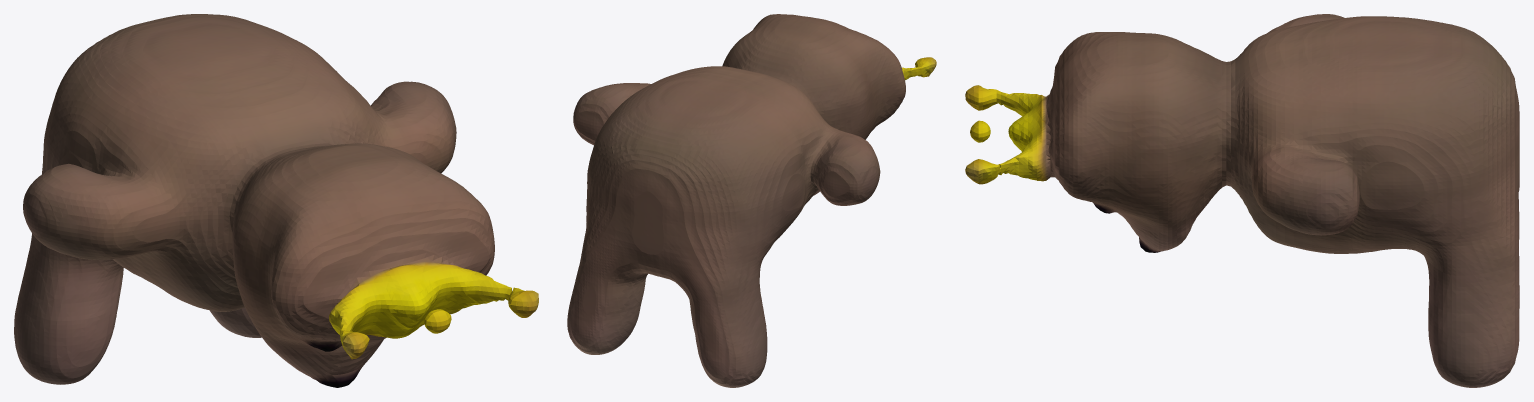
The model's file is a_bear_crown.glb.
3 renders of one model, left to right at view 1: azimuth 30°, elevation 25°; view 2: azimuth 150°, elevation 25°; view 3: azimuth 270°, elevation 25°, orthographic. The views are drawn at different scales.
Parts seen in each view (by area): view 1: 0.ply; view 2: 0.ply; view 3: 0.ply.
Part boxes in pixels (bbox=[...]): 0.ply: bbox=[14, 14, 538, 387]; 0.ply: bbox=[567, 14, 936, 387]; 0.ply: bbox=[965, 14, 1519, 387].
Size of the model in its own units: 1.67 by 1.32 by 2.19.
